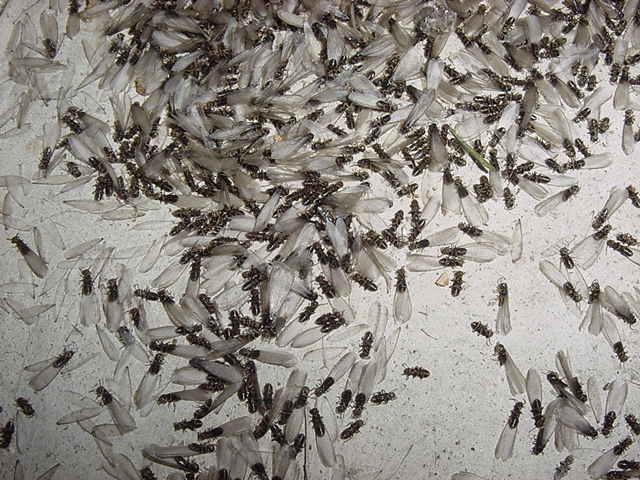flying termite: (86, 381, 139, 435), (489, 397, 527, 464), (24, 345, 74, 394), (489, 342, 527, 398), (458, 216, 514, 254), (29, 10, 67, 65), (8, 230, 47, 283), (312, 353, 359, 396), (585, 436, 633, 478), (133, 351, 166, 411), (75, 262, 101, 330), (309, 406, 336, 470), (571, 227, 613, 268), (599, 313, 631, 366), (532, 183, 583, 216), (601, 376, 628, 437), (591, 185, 629, 228), (519, 139, 563, 176), (490, 274, 516, 336), (390, 264, 416, 326), (239, 345, 301, 369), (524, 365, 546, 429), (403, 251, 463, 274), (408, 224, 461, 250), (345, 89, 402, 113), (194, 418, 259, 439), (426, 118, 450, 173), (104, 274, 126, 333), (561, 152, 615, 176), (583, 278, 603, 340), (612, 61, 636, 112), (39, 118, 59, 178), (441, 243, 503, 262), (615, 107, 636, 160), (502, 121, 521, 175)
